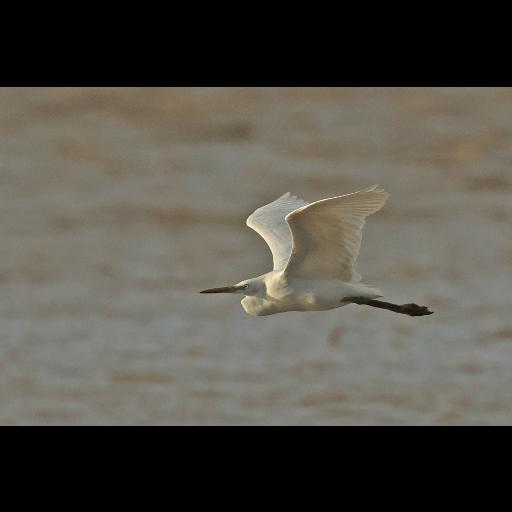chinese_egret: (200, 183, 434, 317)
